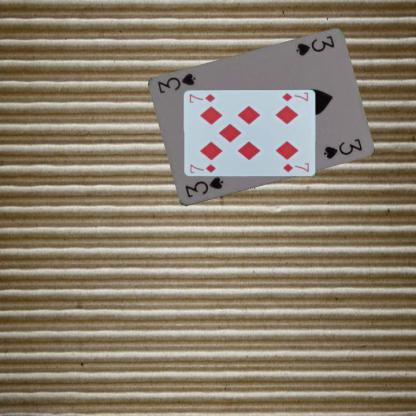3s: (182, 174, 225, 200), (293, 33, 336, 58)
7d: (187, 162, 217, 174), (279, 90, 309, 102)
